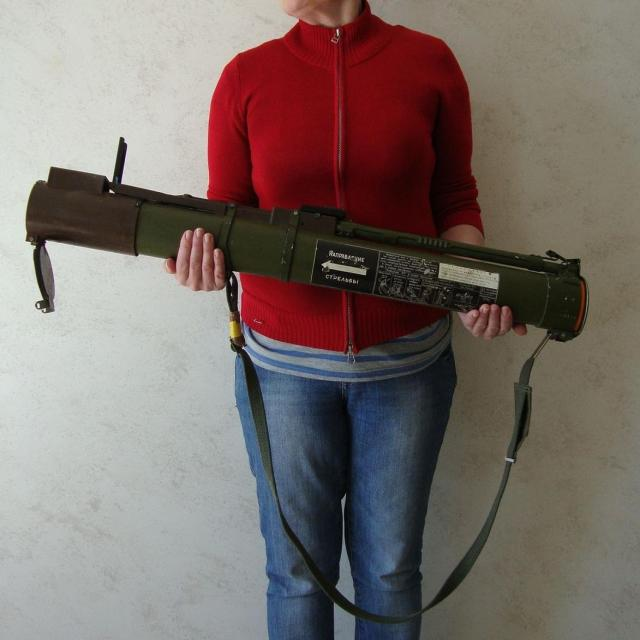bazooka: (17, 141, 603, 381)
